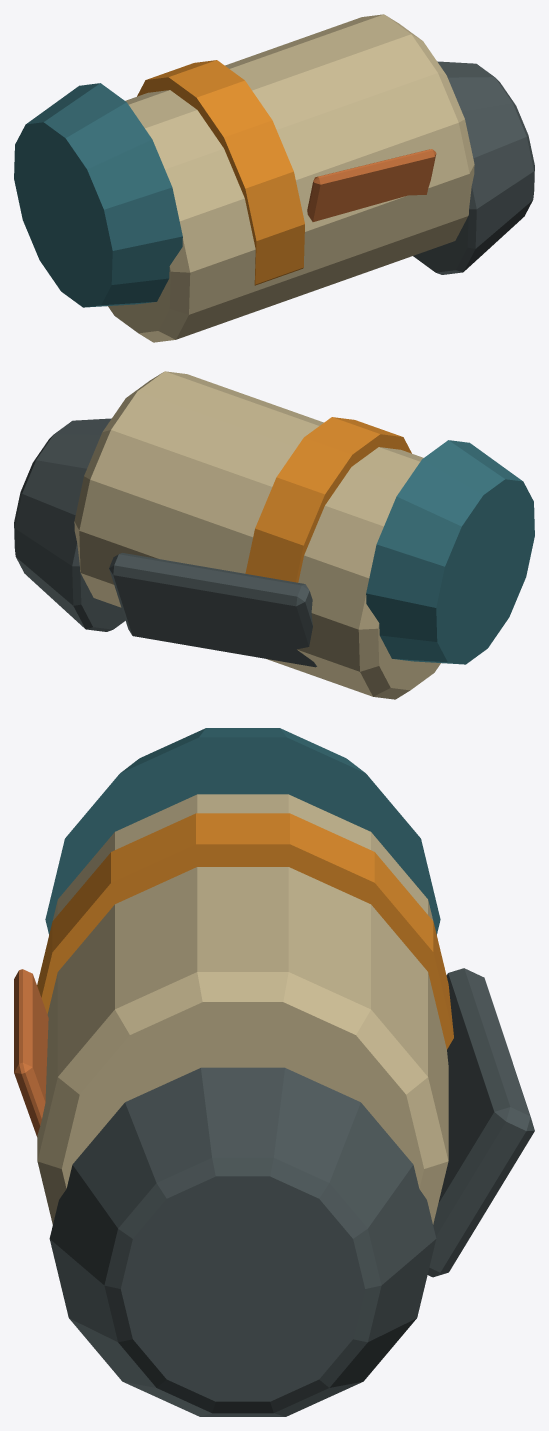
File: wb_wreck_engine.glb
3 views of the same model, one above another, from view 1: azimuth 30°, elevation 25°; view 2: azimuth 150°, elevation 25°; view 3: azimuth 270°, elevation 25° (orthographic). The views are drawn at different scales.
Visible parts, largest first — view 1: wb_wreck_engine; view 2: wb_wreck_engine; view 3: wb_wreck_engine.
Part boxes in pixels (<box>): wb_wreck_engine: <box>14,14,534,342</box>; wb_wreck_engine: <box>14,371,534,699</box>; wb_wreck_engine: <box>14,728,534,1416</box>.
Size of the model in its own units: 2.21 by 1.17 by 1.32.
